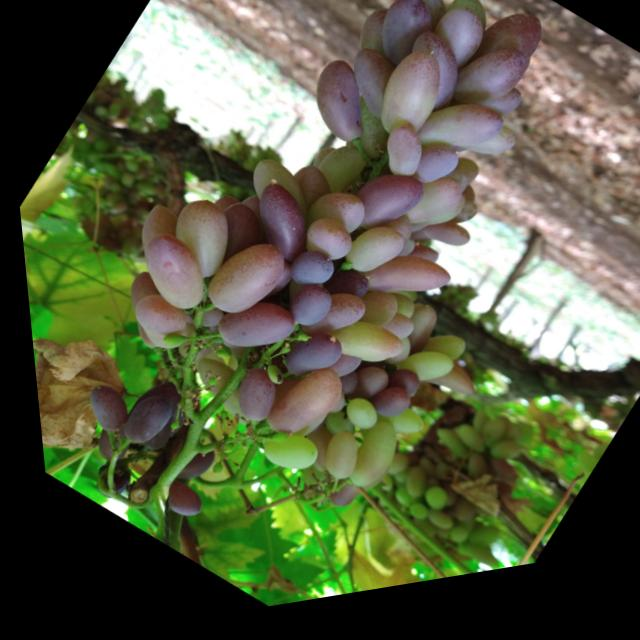grapes: (355, 49, 461, 165), (343, 236, 450, 345), (189, 229, 292, 340), (403, 91, 508, 199), (289, 59, 392, 166), (117, 224, 220, 329), (453, 10, 552, 118), (380, 34, 480, 139), (228, 179, 328, 283), (147, 190, 246, 295), (249, 358, 347, 464), (437, 40, 535, 144), (333, 165, 427, 264), (202, 285, 296, 382), (97, 267, 190, 364), (356, 0, 448, 95), (310, 307, 402, 399), (327, 50, 416, 142), (234, 156, 324, 245), (172, 350, 260, 438), (438, 74, 525, 163), (187, 199, 270, 289), (325, 419, 406, 510), (285, 283, 366, 369), (289, 185, 370, 270), (415, 10, 495, 94), (113, 285, 194, 367), (326, 101, 404, 182), (331, 222, 406, 302), (391, 175, 465, 256), (268, 327, 343, 405), (444, 117, 518, 193), (115, 367, 187, 444), (300, 144, 369, 218), (213, 367, 281, 439), (246, 425, 315, 495), (400, 189, 467, 261), (365, 129, 432, 200), (289, 216, 356, 285), (376, 307, 441, 378), (107, 388, 172, 459), (383, 345, 450, 413), (218, 194, 284, 263), (66, 378, 132, 445), (121, 202, 185, 271), (272, 166, 336, 233), (398, 145, 461, 213), (311, 465, 374, 532), (409, 363, 474, 427), (346, 13, 408, 80), (301, 432, 363, 498), (77, 406, 138, 473), (160, 315, 222, 380), (338, 289, 399, 352), (281, 424, 341, 488), (273, 284, 333, 347), (276, 248, 336, 310), (310, 264, 369, 325), (153, 437, 210, 498), (330, 367, 387, 428), (440, 0, 498, 56), (168, 292, 224, 350), (144, 476, 200, 533), (413, 219, 469, 275), (353, 385, 408, 441), (396, 0, 453, 53), (243, 260, 295, 318), (410, 334, 463, 390), (268, 274, 321, 330), (77, 455, 129, 510), (252, 373, 303, 429), (371, 408, 420, 458), (369, 371, 416, 420), (129, 411, 174, 462), (329, 401, 375, 448), (418, 435, 464, 479), (472, 444, 515, 489), (369, 340, 411, 385), (314, 352, 356, 396), (373, 219, 415, 262), (446, 548, 490, 589), (372, 285, 414, 326), (310, 412, 351, 454), (385, 473, 425, 515), (370, 317, 410, 358), (373, 297, 413, 337), (442, 433, 482, 473), (465, 425, 504, 466), (454, 531, 491, 570), (443, 166, 479, 204), (399, 250, 435, 287), (441, 210, 476, 248), (406, 493, 441, 530), (448, 462, 482, 497), (323, 374, 356, 410), (476, 469, 510, 503), (434, 177, 467, 211), (205, 195, 238, 228), (413, 518, 446, 550), (455, 422, 485, 454), (305, 152, 333, 184), (487, 435, 516, 465), (392, 510, 420, 538), (387, 249, 413, 278), (508, 70, 532, 96), (452, 197, 476, 222), (211, 338, 235, 362), (401, 230, 423, 253), (380, 500, 402, 522), (338, 149, 355, 166), (198, 327, 211, 340), (405, 313, 416, 324)
